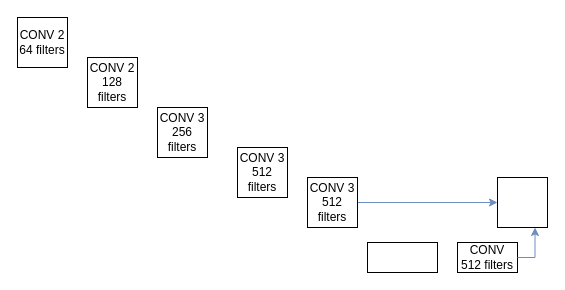
This 565x290 diagram has some shape labels left out. Here are the shapes that lost their labels. From the top down, the centre of each, then its label:
At (522,202): "UP 1024".
At (402,257): "CONV 1024 filters".
